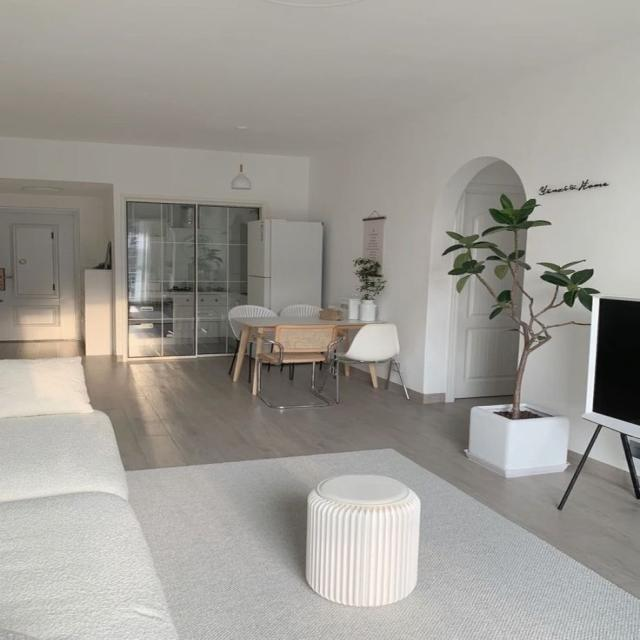door: (0, 204, 80, 340)
obstacle: (0, 356, 179, 639), (310, 475, 420, 608), (231, 316, 388, 396), (246, 218, 324, 315)
